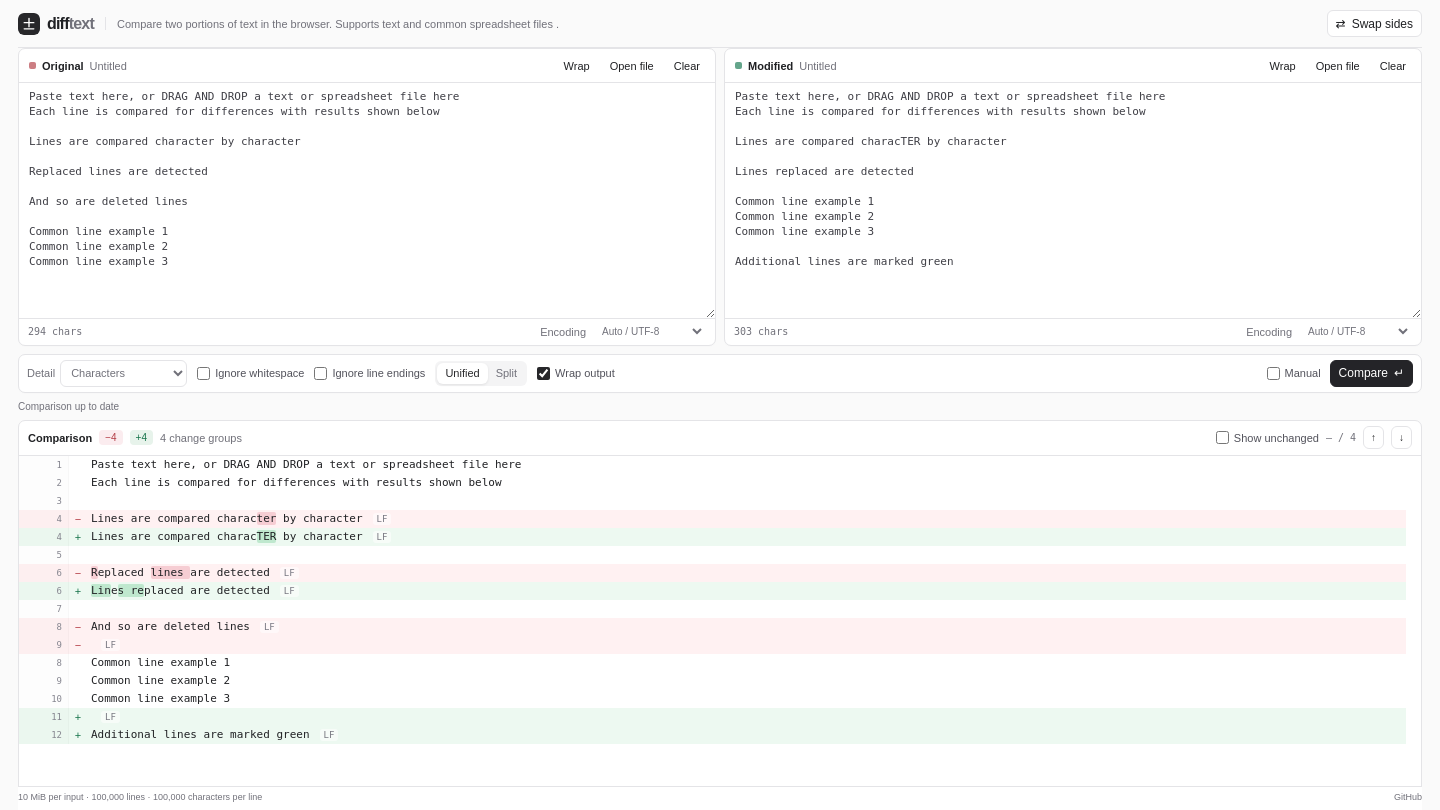
Scenario: App › marks results stale immediately and waits for Compare in manual mode
expect the text "Comparison up to date" is shown: met, box [18,401,119,412]
Click the checkbox labelled "Manual" at (1273, 373), box [1266,367,1280,380]
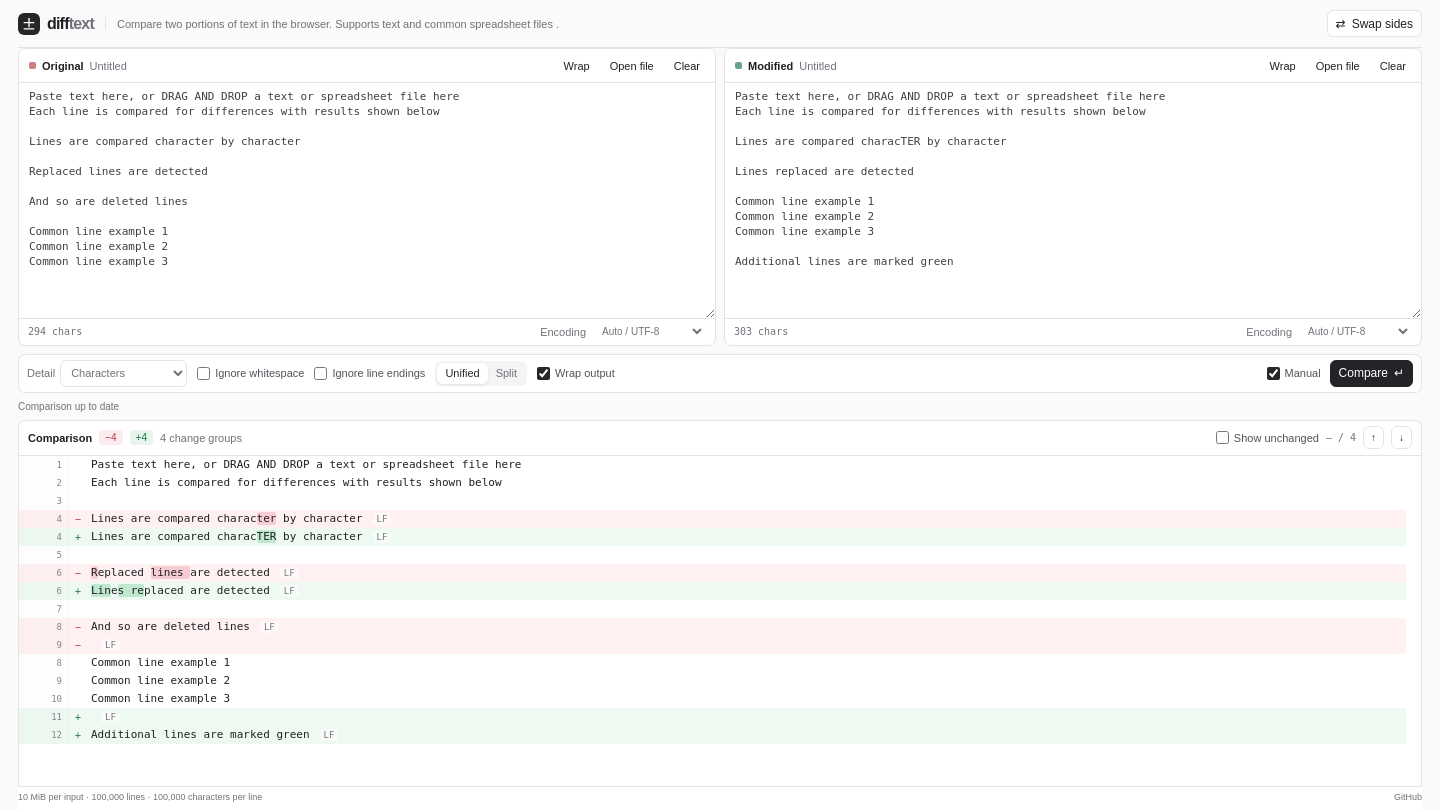
Replace the text in the text box labelled "Original" with "changed" at (367, 200), box [19,83,715,318]
Wait 300 ms
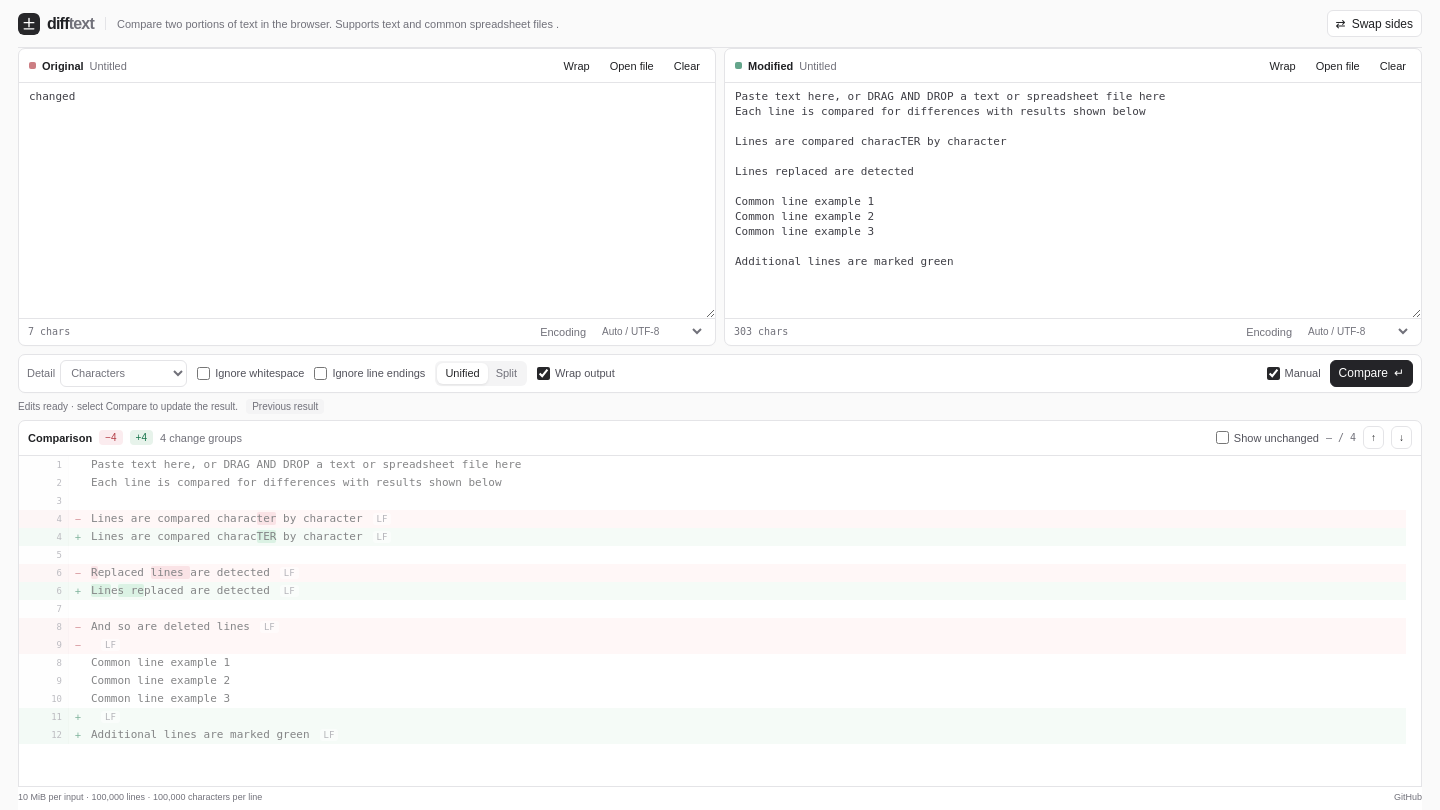
expect the text "Previous result" is shown: met, box [246,399,324,414]
Click the button "Compare ↵" at (1371, 373), box [1330,360,1413,387]
Wait 300 ms
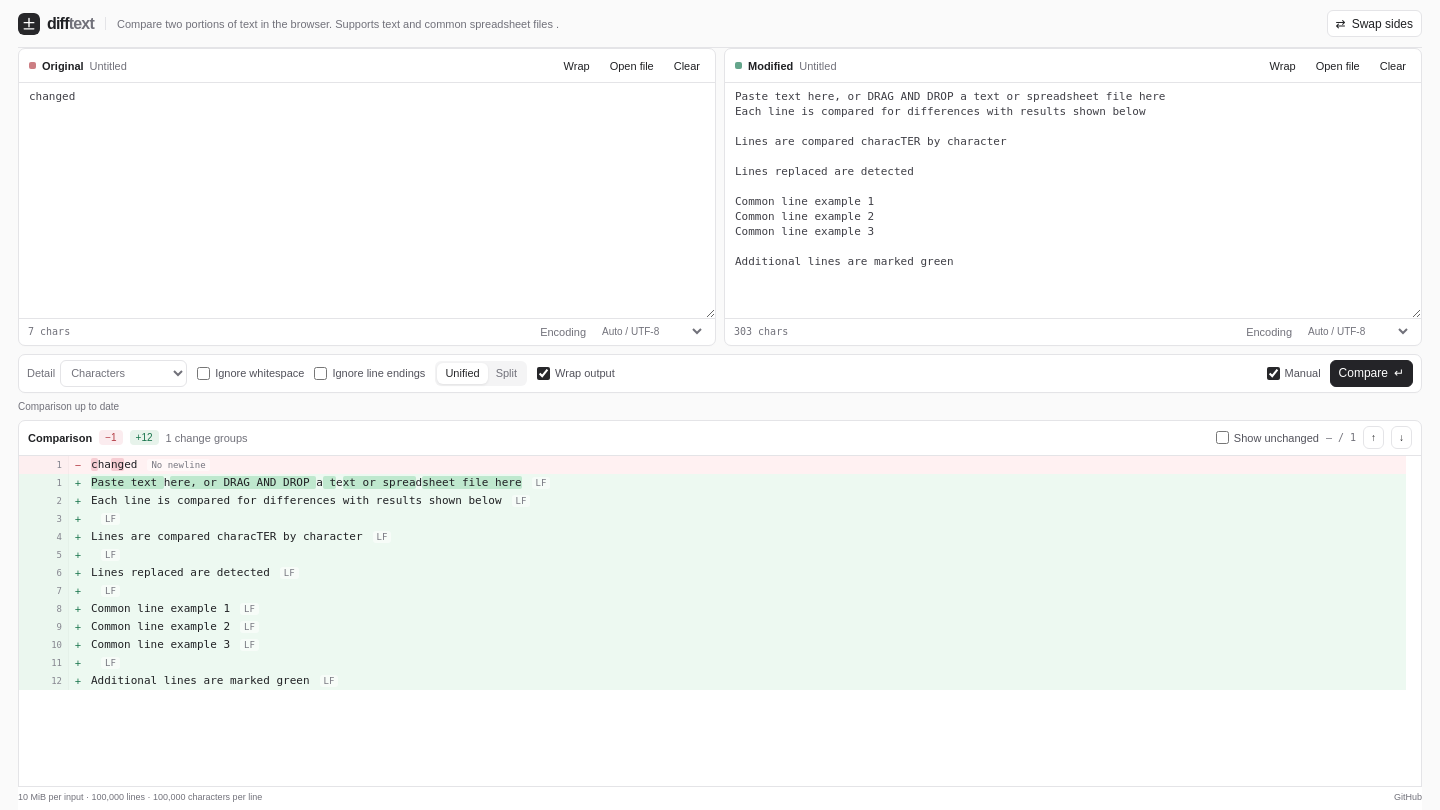
expect the text "Previous result" is gone: met
